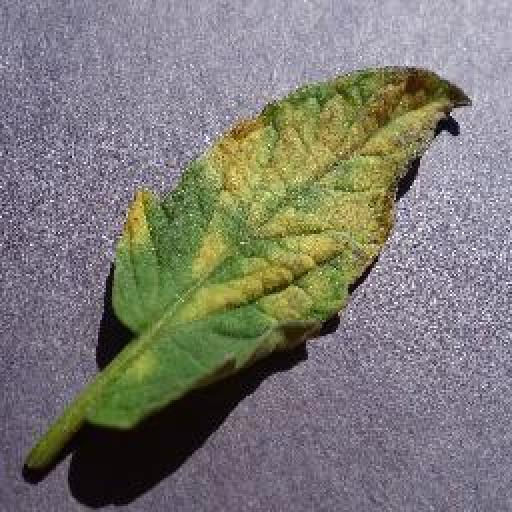disease_tomato: (88, 62, 475, 430)
